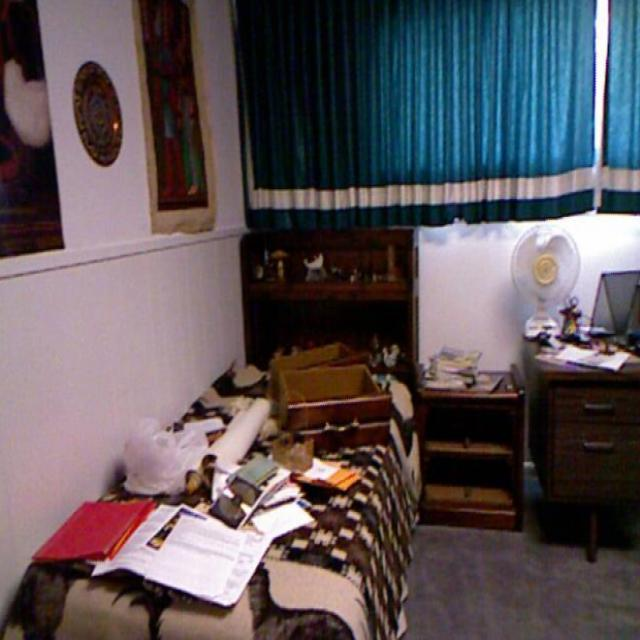bed: (57, 275, 419, 640)
beside table: (545, 326, 640, 560), (423, 349, 533, 535)
